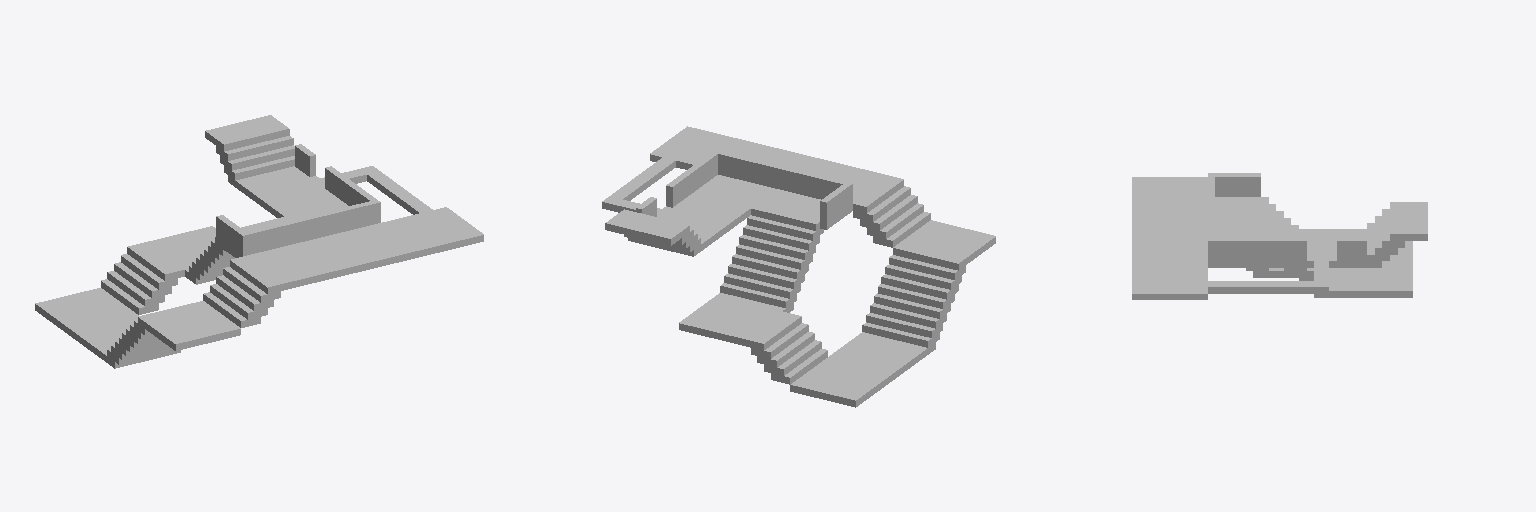
File: lvl02_mainFloor.obj
3 views of the same model, side by side, from view 1: azimuth 30°, elevation 25°; view 2: azimuth 150°, elevation 25°; view 3: azimuth 270°, elevation 25° (orthographic).
Parts seen in each view (by area): view 1: lvl02_mainFloor1:Mesh; view 2: lvl02_mainFloor1:Mesh; view 3: lvl02_mainFloor1:Mesh.
Boxes of the visible parts, <box> form: lvl02_mainFloor1:Mesh: <box>35,115,483,368</box>; lvl02_mainFloor1:Mesh: <box>602,126,995,407</box>; lvl02_mainFloor1:Mesh: <box>1132,173,1427,299</box>.
Bounding box in the file's own units: 47 × 19 × 39.